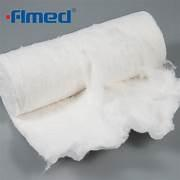cotton: (0, 12, 179, 163), (0, 12, 165, 114), (13, 71, 179, 162)
